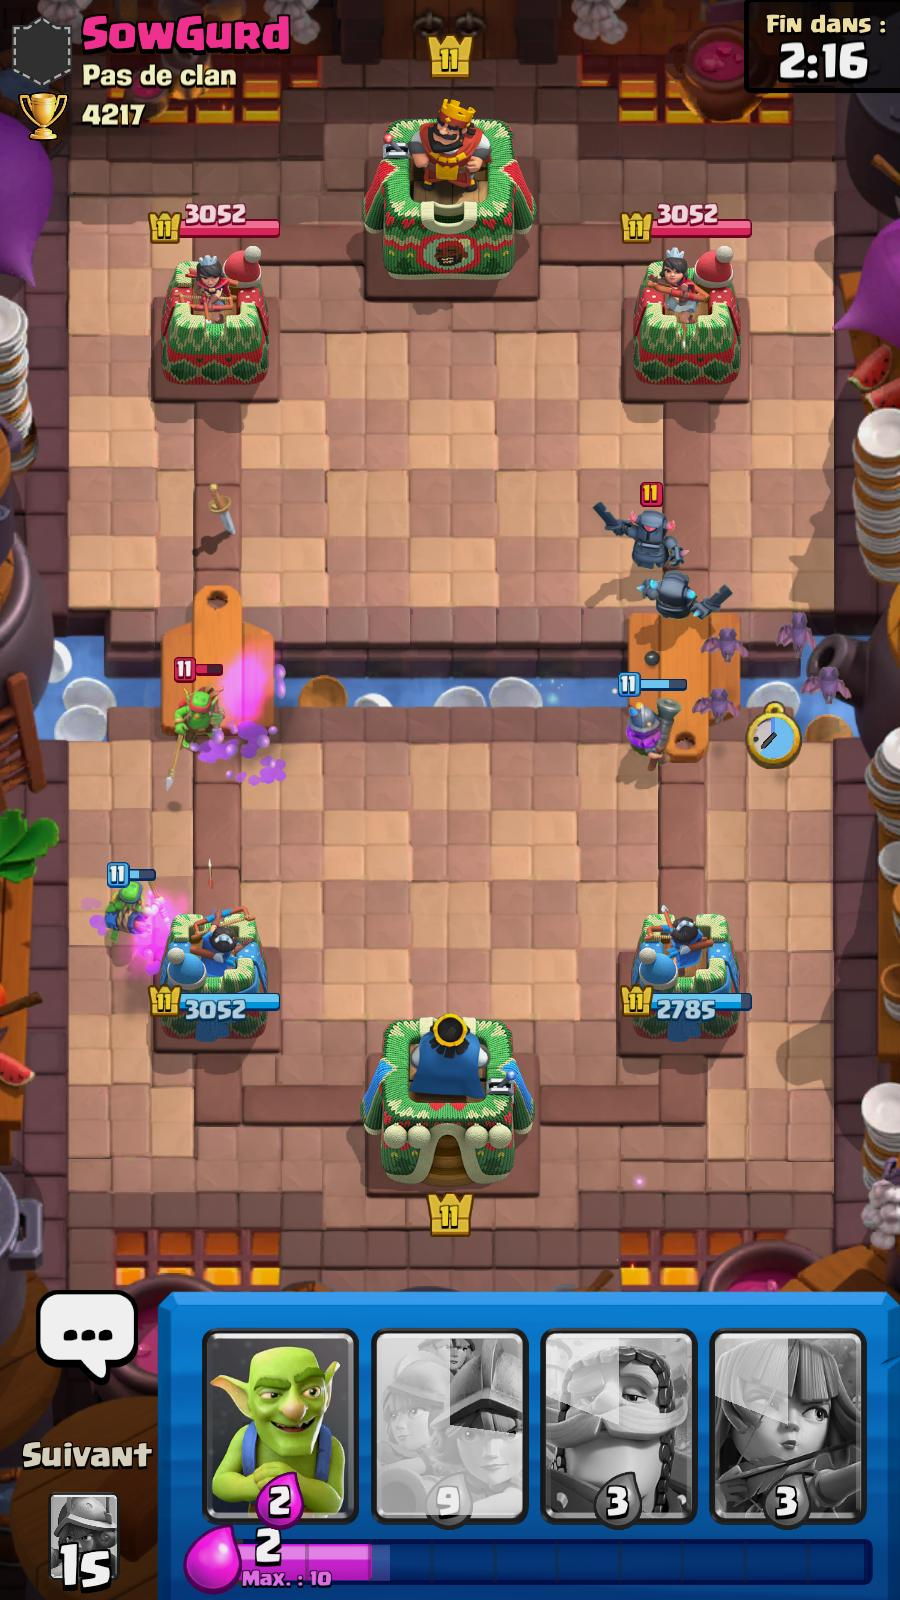bat: (698, 630, 756, 665), (693, 684, 745, 722), (804, 663, 849, 704), (779, 611, 816, 649)
gobelin_lances: (101, 857, 169, 946), (171, 657, 227, 757)
mini_PEKKA: (590, 498, 691, 575), (640, 570, 734, 622)
mousquetaire: (623, 691, 685, 781)
